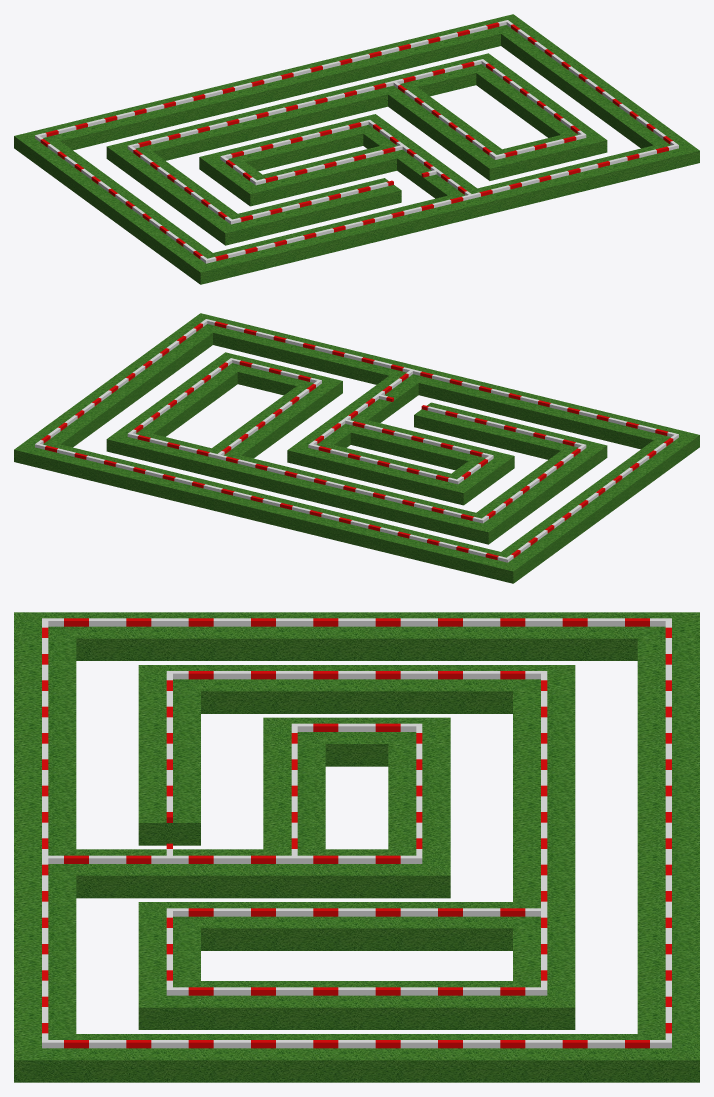
File: Ground15-G.fbx
3 views of the same model, one above another, from view 1: azimuth 30°, elevation 25°; view 2: azimuth 150°, elevation 25°; view 3: azimuth 270°, elevation 25° (orthographic). The views are drawn at different scales.
Parts seen in each view (by area): view 1: pCube1933; view 2: pCube1933; view 3: pCube1933.
Boxes of the visible parts, x1,y1,x2,y2 form: pCube1933: [14, 14, 699, 284]; pCube1933: [14, 313, 699, 583]; pCube1933: [14, 612, 699, 1082].
Size of the model in its own units: 850 by 25 by 550.
